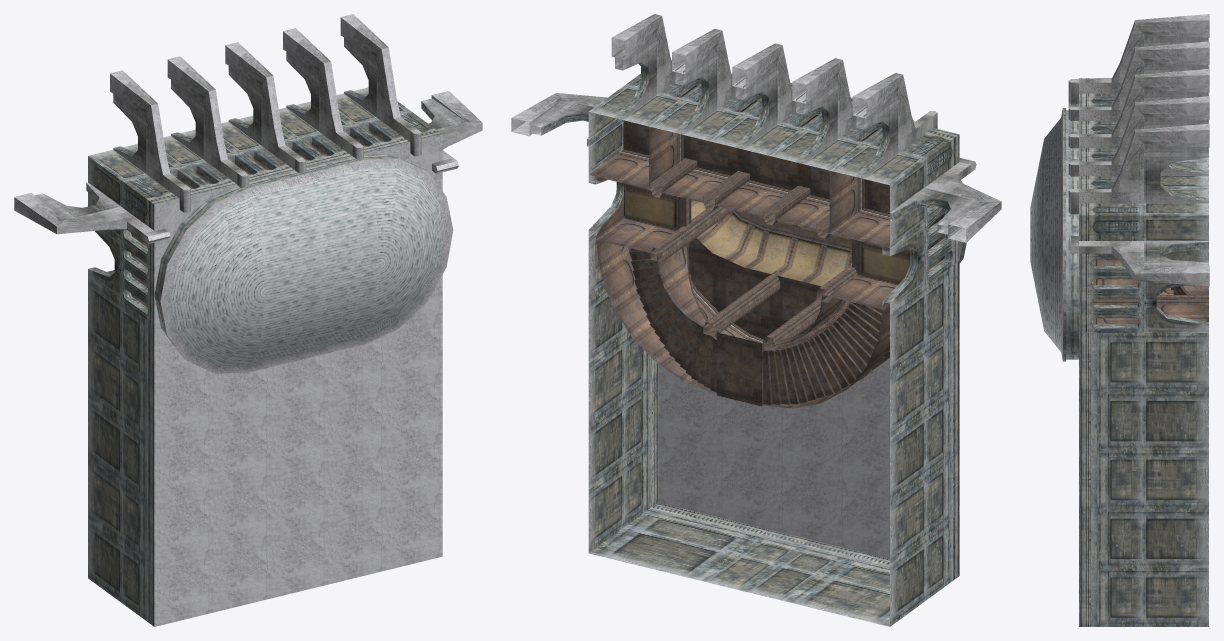
File: rv_mod_col_fortified_tower.obj
3 views of the same model, side by side, from view 1: azimuth 30°, elevation 25°; view 2: azimuth 150°, elevation 25°; view 3: azimuth 270°, elevation 25° (orthographic). The views are drawn at different scales.
Parts seen in each view (by area): view 1: rv_mod_col_fortified_tower; view 2: rv_mod_col_fortified_tower; view 3: rv_mod_col_fortified_tower.
Part boxes in pixels (box(x1,y1,x2,y2)): rv_mod_col_fortified_tower: box(14, 14, 482, 626); rv_mod_col_fortified_tower: box(511, 14, 1001, 626); rv_mod_col_fortified_tower: box(1030, 14, 1209, 626).
Size of the model in its own units: 60.36 by 66.18 by 22.09.
Materials: 19 (19 with a texture image).
